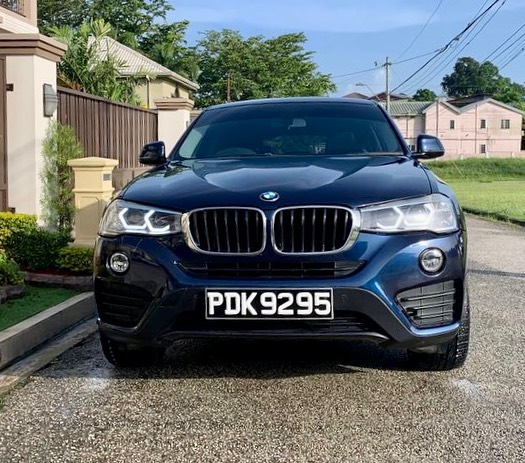License-Plate: (206, 288, 332, 317)
